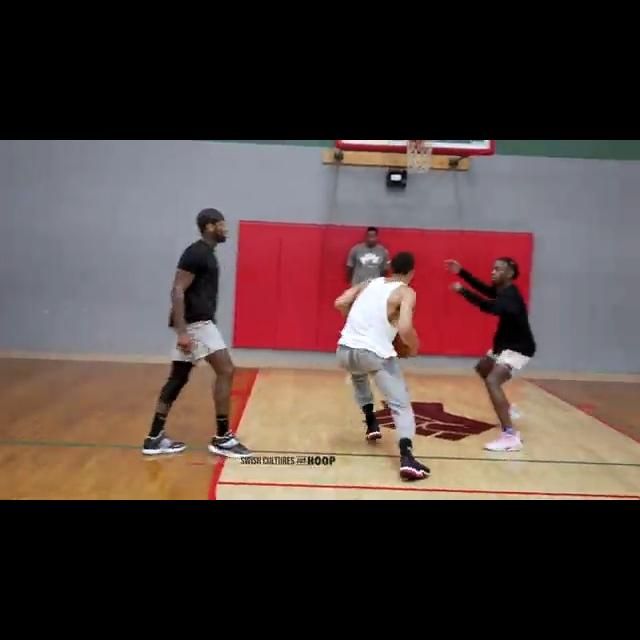hoop: (407, 140, 437, 177)
person: (129, 205, 267, 461), (340, 263, 438, 479), (452, 254, 544, 454), (346, 222, 394, 285)
